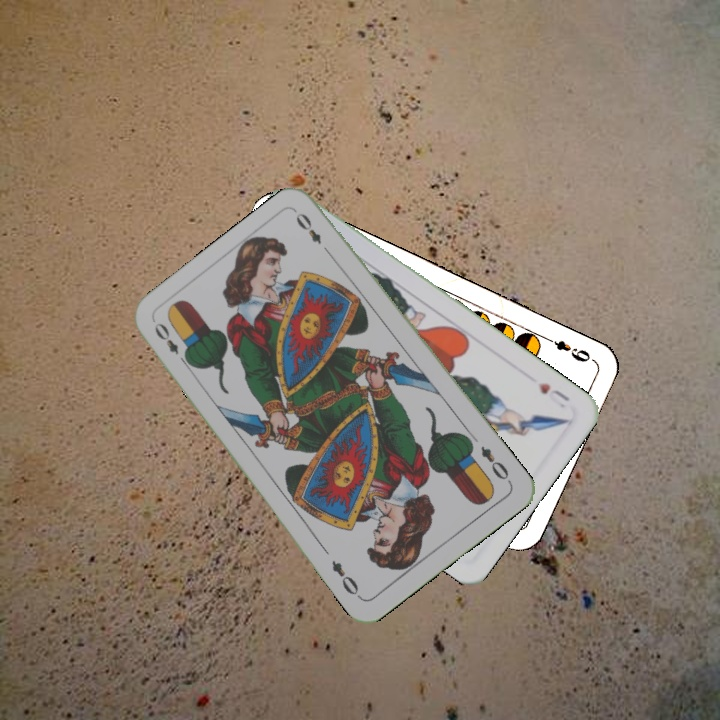E9: (540, 332, 595, 365)
EO: (150, 318, 192, 369), (476, 442, 514, 486)
HU: (534, 378, 573, 411)
